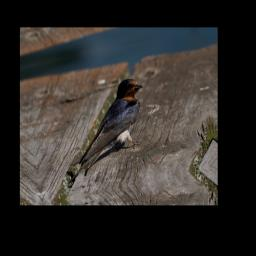Swallow: (53, 75, 157, 185)
